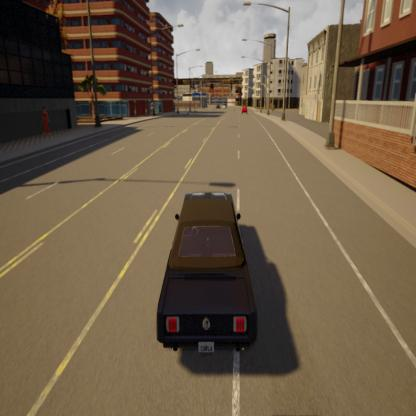Cars: (154, 181, 260, 356), (240, 105, 248, 115)
Pedestrian: (41, 104, 49, 140)
